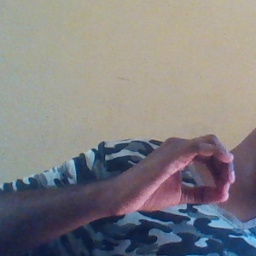O: (127, 130, 240, 216)
